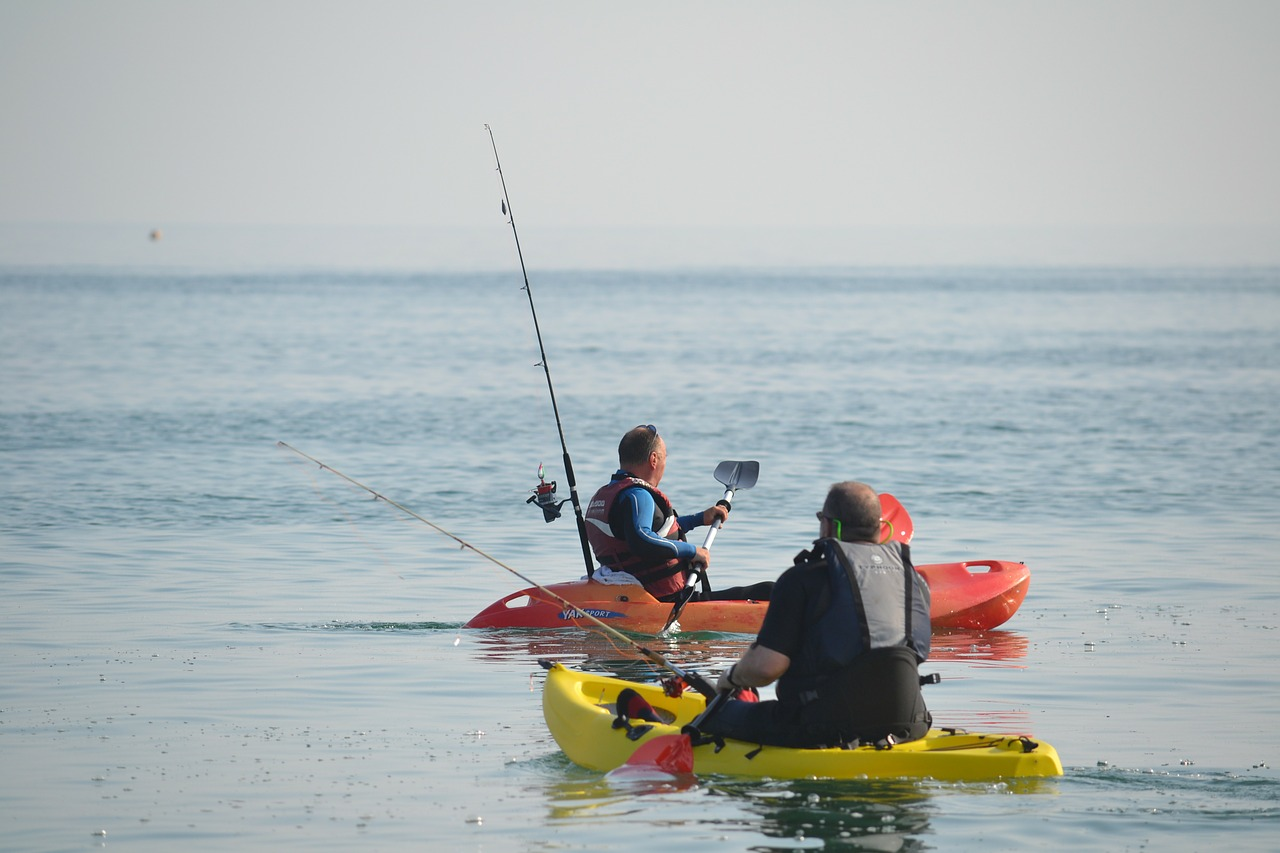kayak: (535, 657, 1069, 784)
